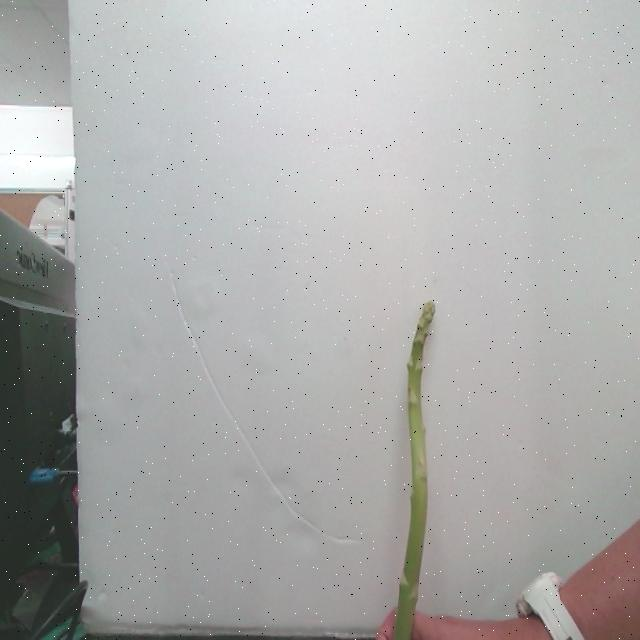aspargus: (378, 304, 437, 640)
